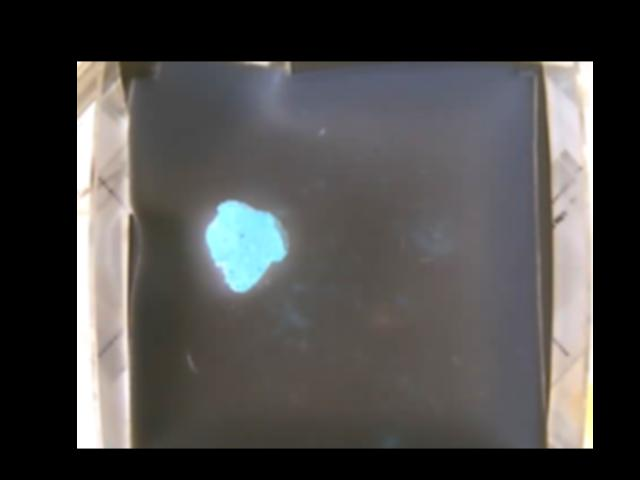Brisk: (204, 199, 287, 290)
